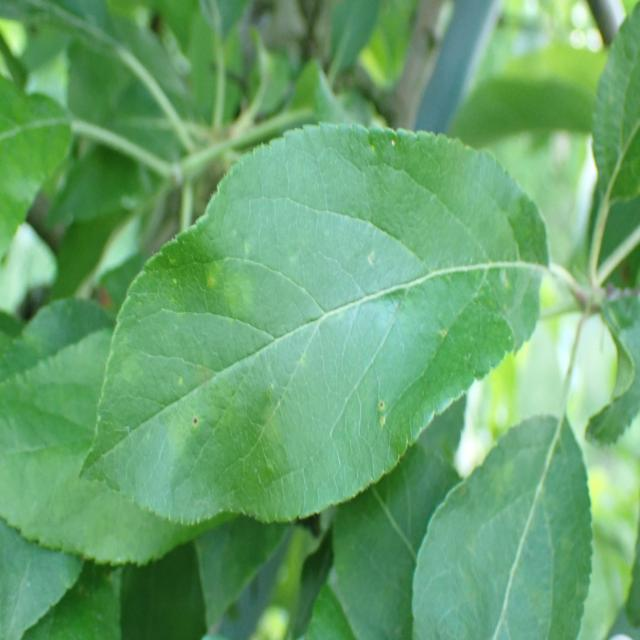scab: (136, 196, 548, 458)
